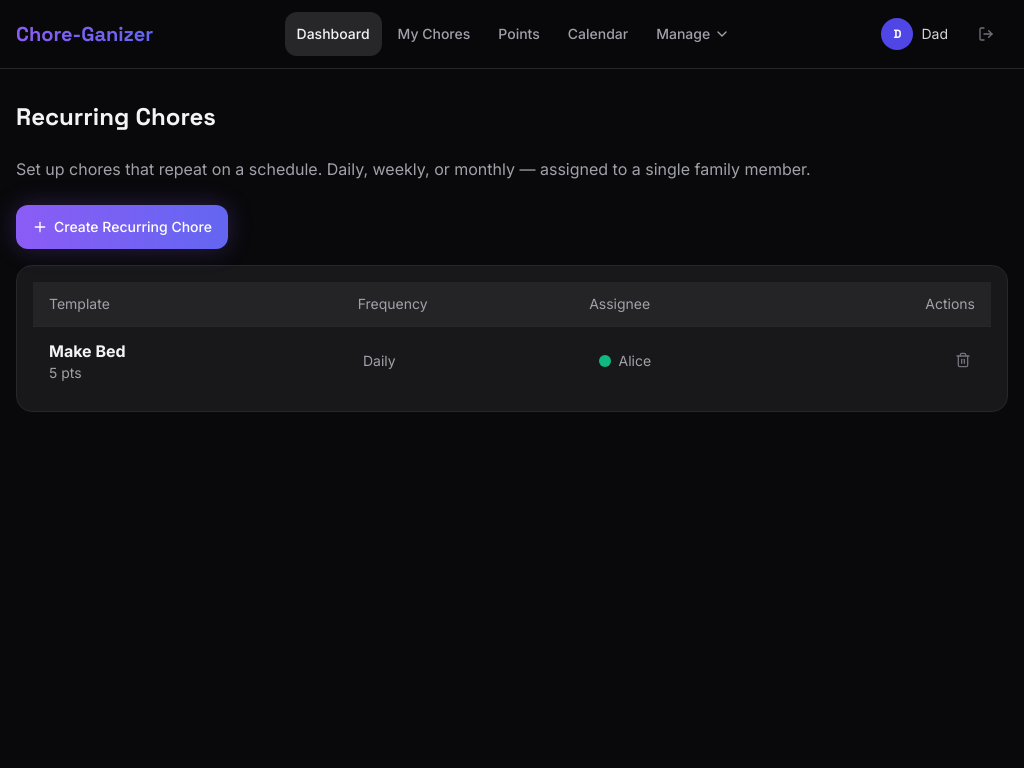
Scenario: RecurringChoresPage › shows delete confirmation when delete icon clicked
Click the button named "Delete recurring chore" at (963, 360), box [951,348,975,372]
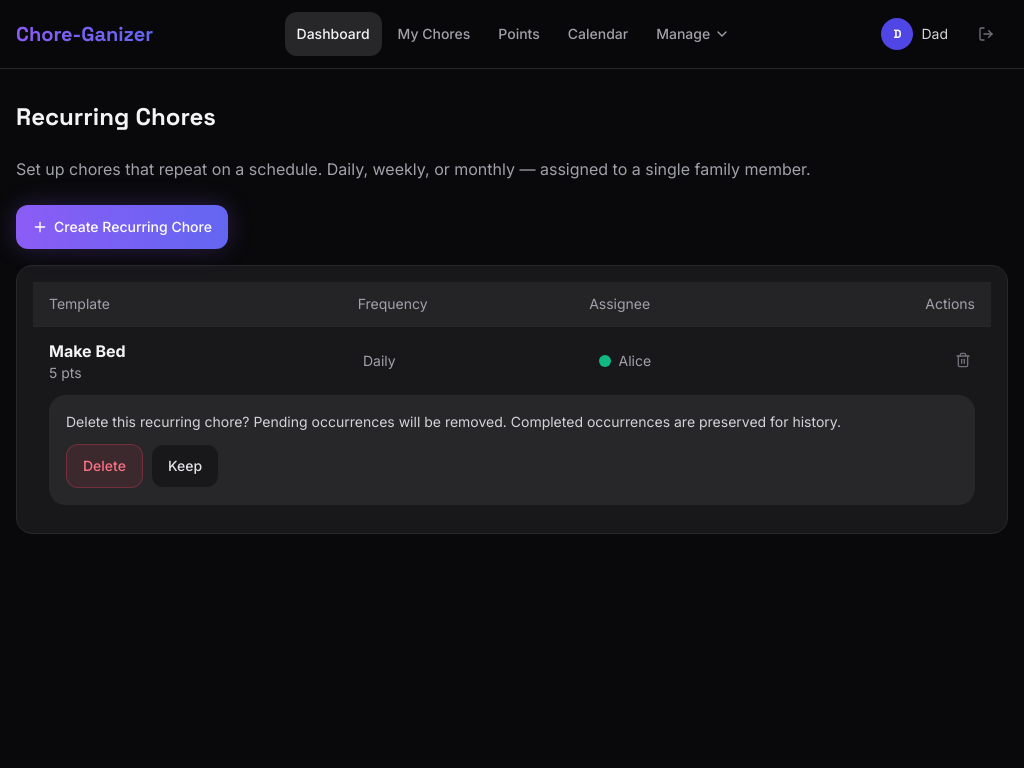
expect the text "Delete this recurring chore" is shown: met, box [66,413,841,430]
